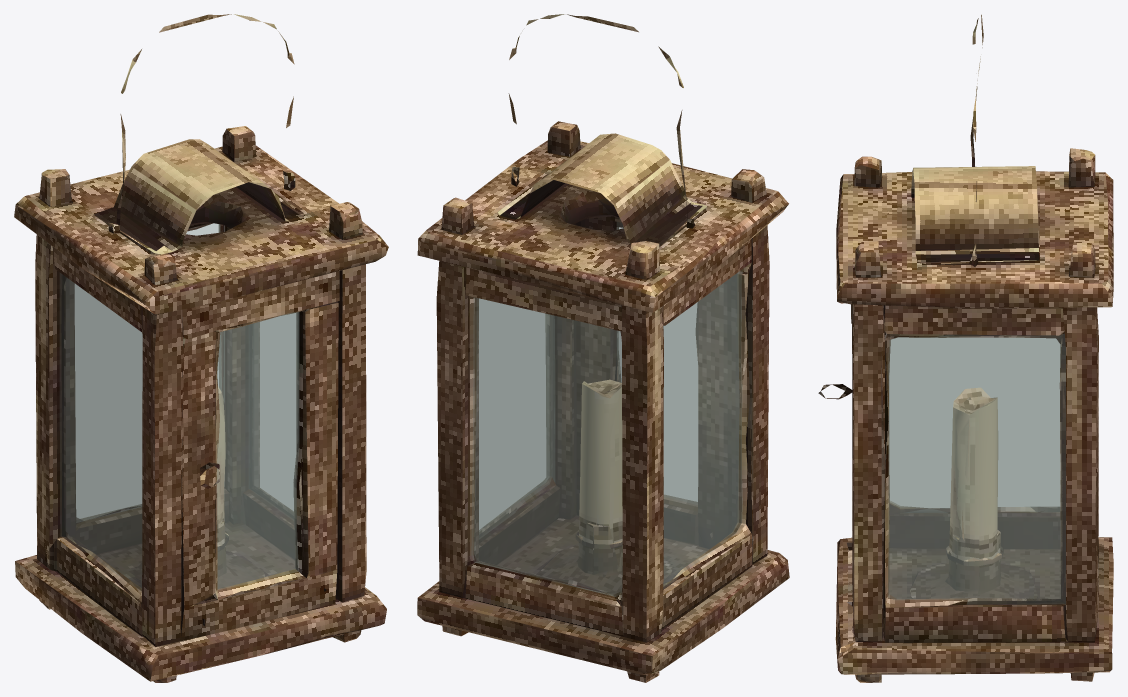
Rendered from wood_lantern.glb.
3 renders of one model, left to right at view 1: azimuth 30°, elevation 25°; view 2: azimuth 150°, elevation 25°; view 3: azimuth 270°, elevation 25°, orthographic.
Visible parts, largest first — view 1: body, glass; view 2: body, glass; view 3: body, glass.
Boxes of the visible parts, x1,y1,x2,y2 form: body: (14, 14, 388, 682); glass: (60, 223, 299, 591); body: (417, 14, 789, 682); glass: (471, 222, 742, 596); body: (818, 14, 1113, 682); glass: (882, 334, 1065, 607).
Size of the model in its own units: 0.2215 by 0.5291 by 0.2344.
Materials: 2 (1 with a texture image).
